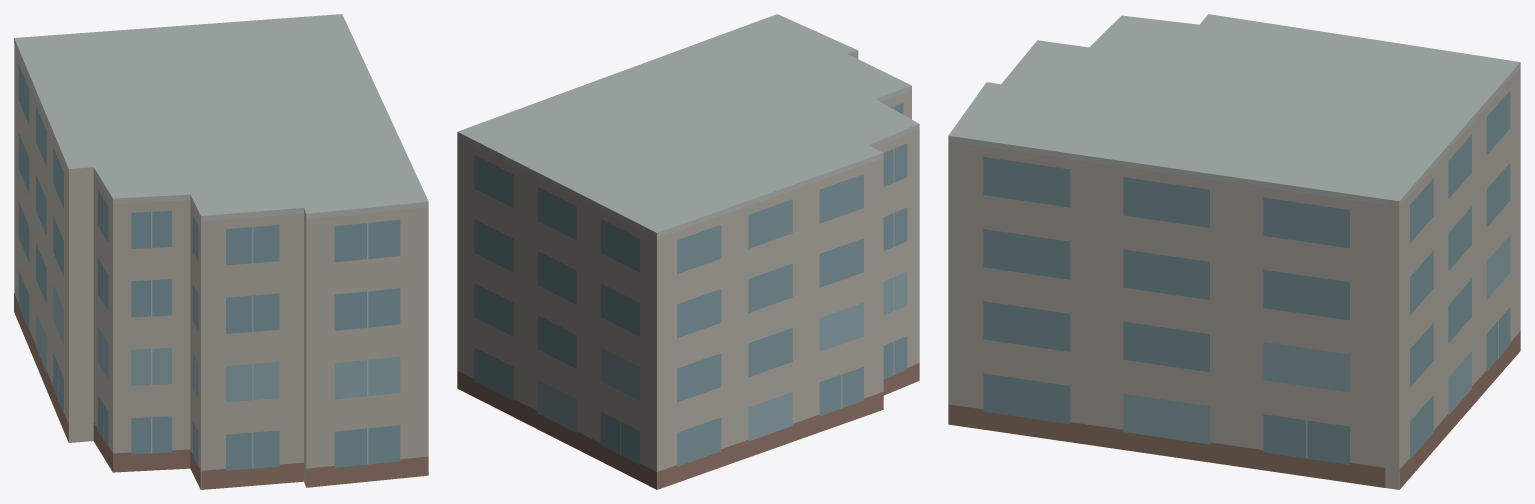
Rendered from survey-upis-32947393.glb.
3 views of the same model, side by side, from view 1: azimuth 30°, elevation 25°; view 2: azimuth 150°, elevation 25°; view 3: azimuth 270°, elevation 25° (orthographic). The views are drawn at different scales.
Visible parts, largest first — view 1: survey-upis-32947393.tmp; view 2: survey-upis-32947393.tmp; view 3: survey-upis-32947393.tmp.
Part boxes in pixels (bbox=[...]): survey-upis-32947393.tmp: bbox=[14, 14, 428, 489]; survey-upis-32947393.tmp: bbox=[457, 14, 919, 489]; survey-upis-32947393.tmp: bbox=[948, 14, 1520, 489].
Size of the model in its own units: 17.24 by 12.4 by 22.28.
